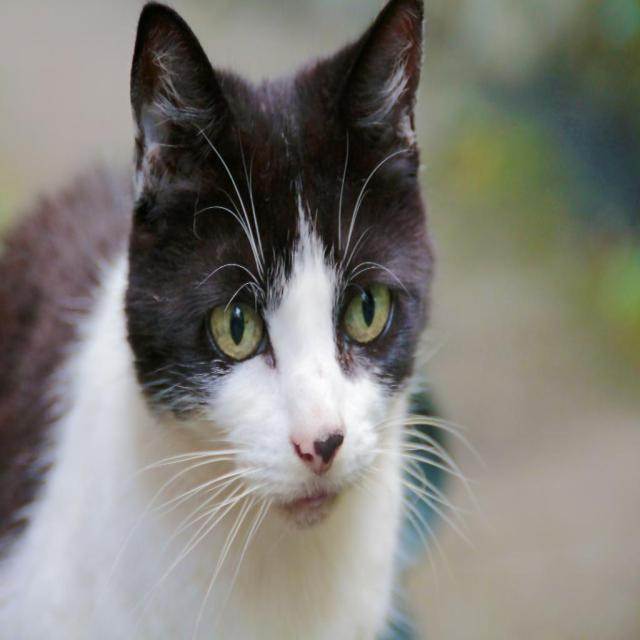Cat: (0, 0, 484, 638)
